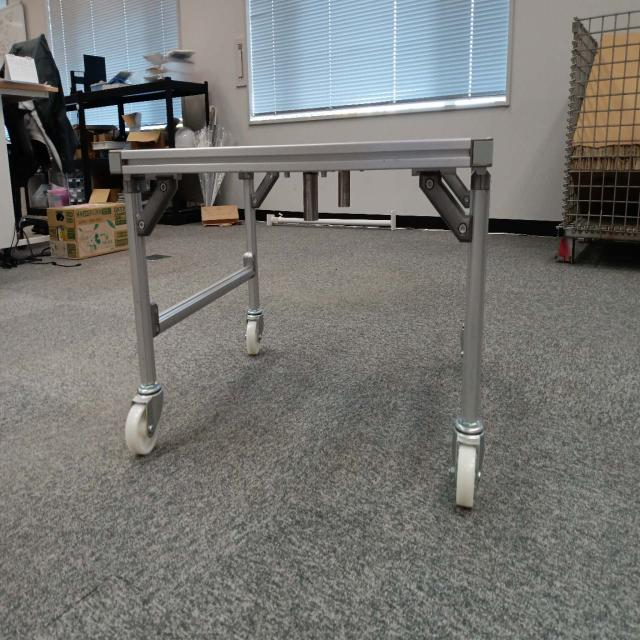box: (46, 199, 128, 254)
door: (124, 138, 487, 248)
